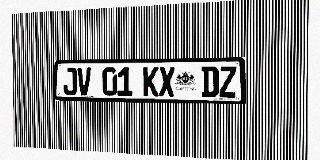0: (102, 67, 117, 96)
1: (117, 67, 132, 96)
D: (202, 66, 218, 97)
J: (63, 68, 77, 95)
K: (143, 67, 158, 96)
V: (77, 67, 91, 96)
X: (159, 67, 175, 97)
Z: (219, 66, 236, 97)
